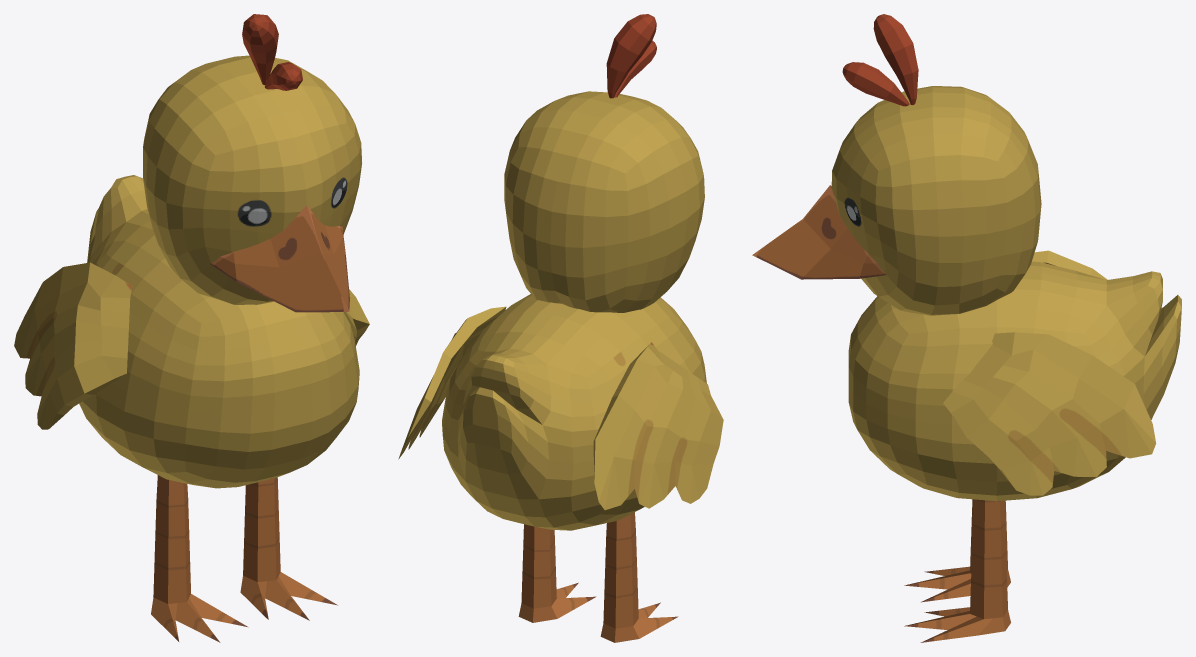
Rendered from PolloT (1).fbx.
The picture shows the model from 3 angles, left to right: view 1: azimuth 30°, elevation 25°; view 2: azimuth 150°, elevation 25°; view 3: azimuth 270°, elevation 25°; orthographic projection. The views are drawn at different scales.
Parts seen in each view (by area): view 1: Pollo_Start1:Pollo; view 2: Pollo_Start1:Pollo; view 3: Pollo_Start1:Pollo.
Part boxes in pixels (x1,y1,x2,y2): Pollo_Start1:Pollo: (14, 14, 369, 642); Pollo_Start1:Pollo: (398, 14, 723, 642); Pollo_Start1:Pollo: (752, 14, 1181, 642).
Size of the model in its own units: 25.2 by 49.87 by 33.38.
1 material, 1 textured.
